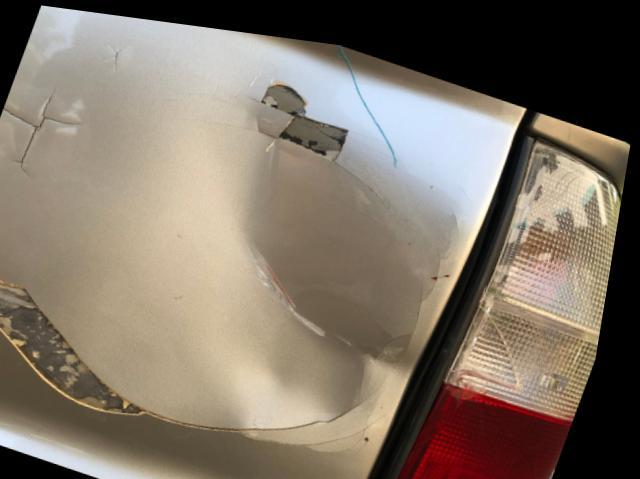dent: (168, 89, 435, 411)
lamp broken: (404, 123, 624, 479)
